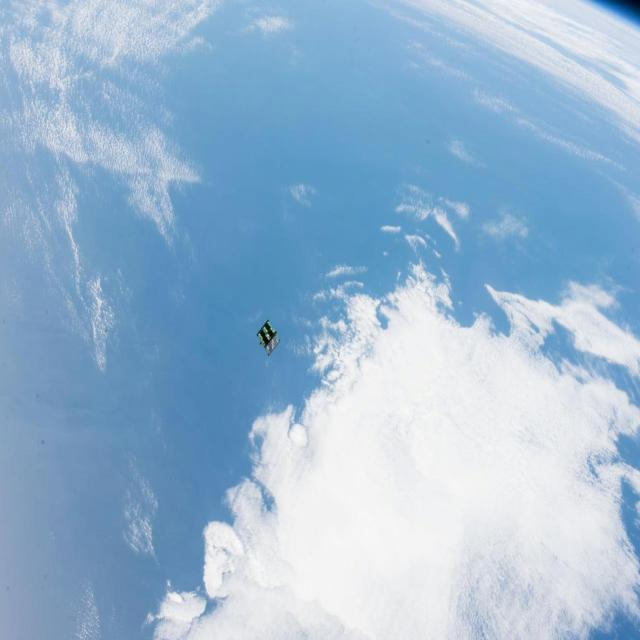medium_debris: (258, 319, 280, 355)
